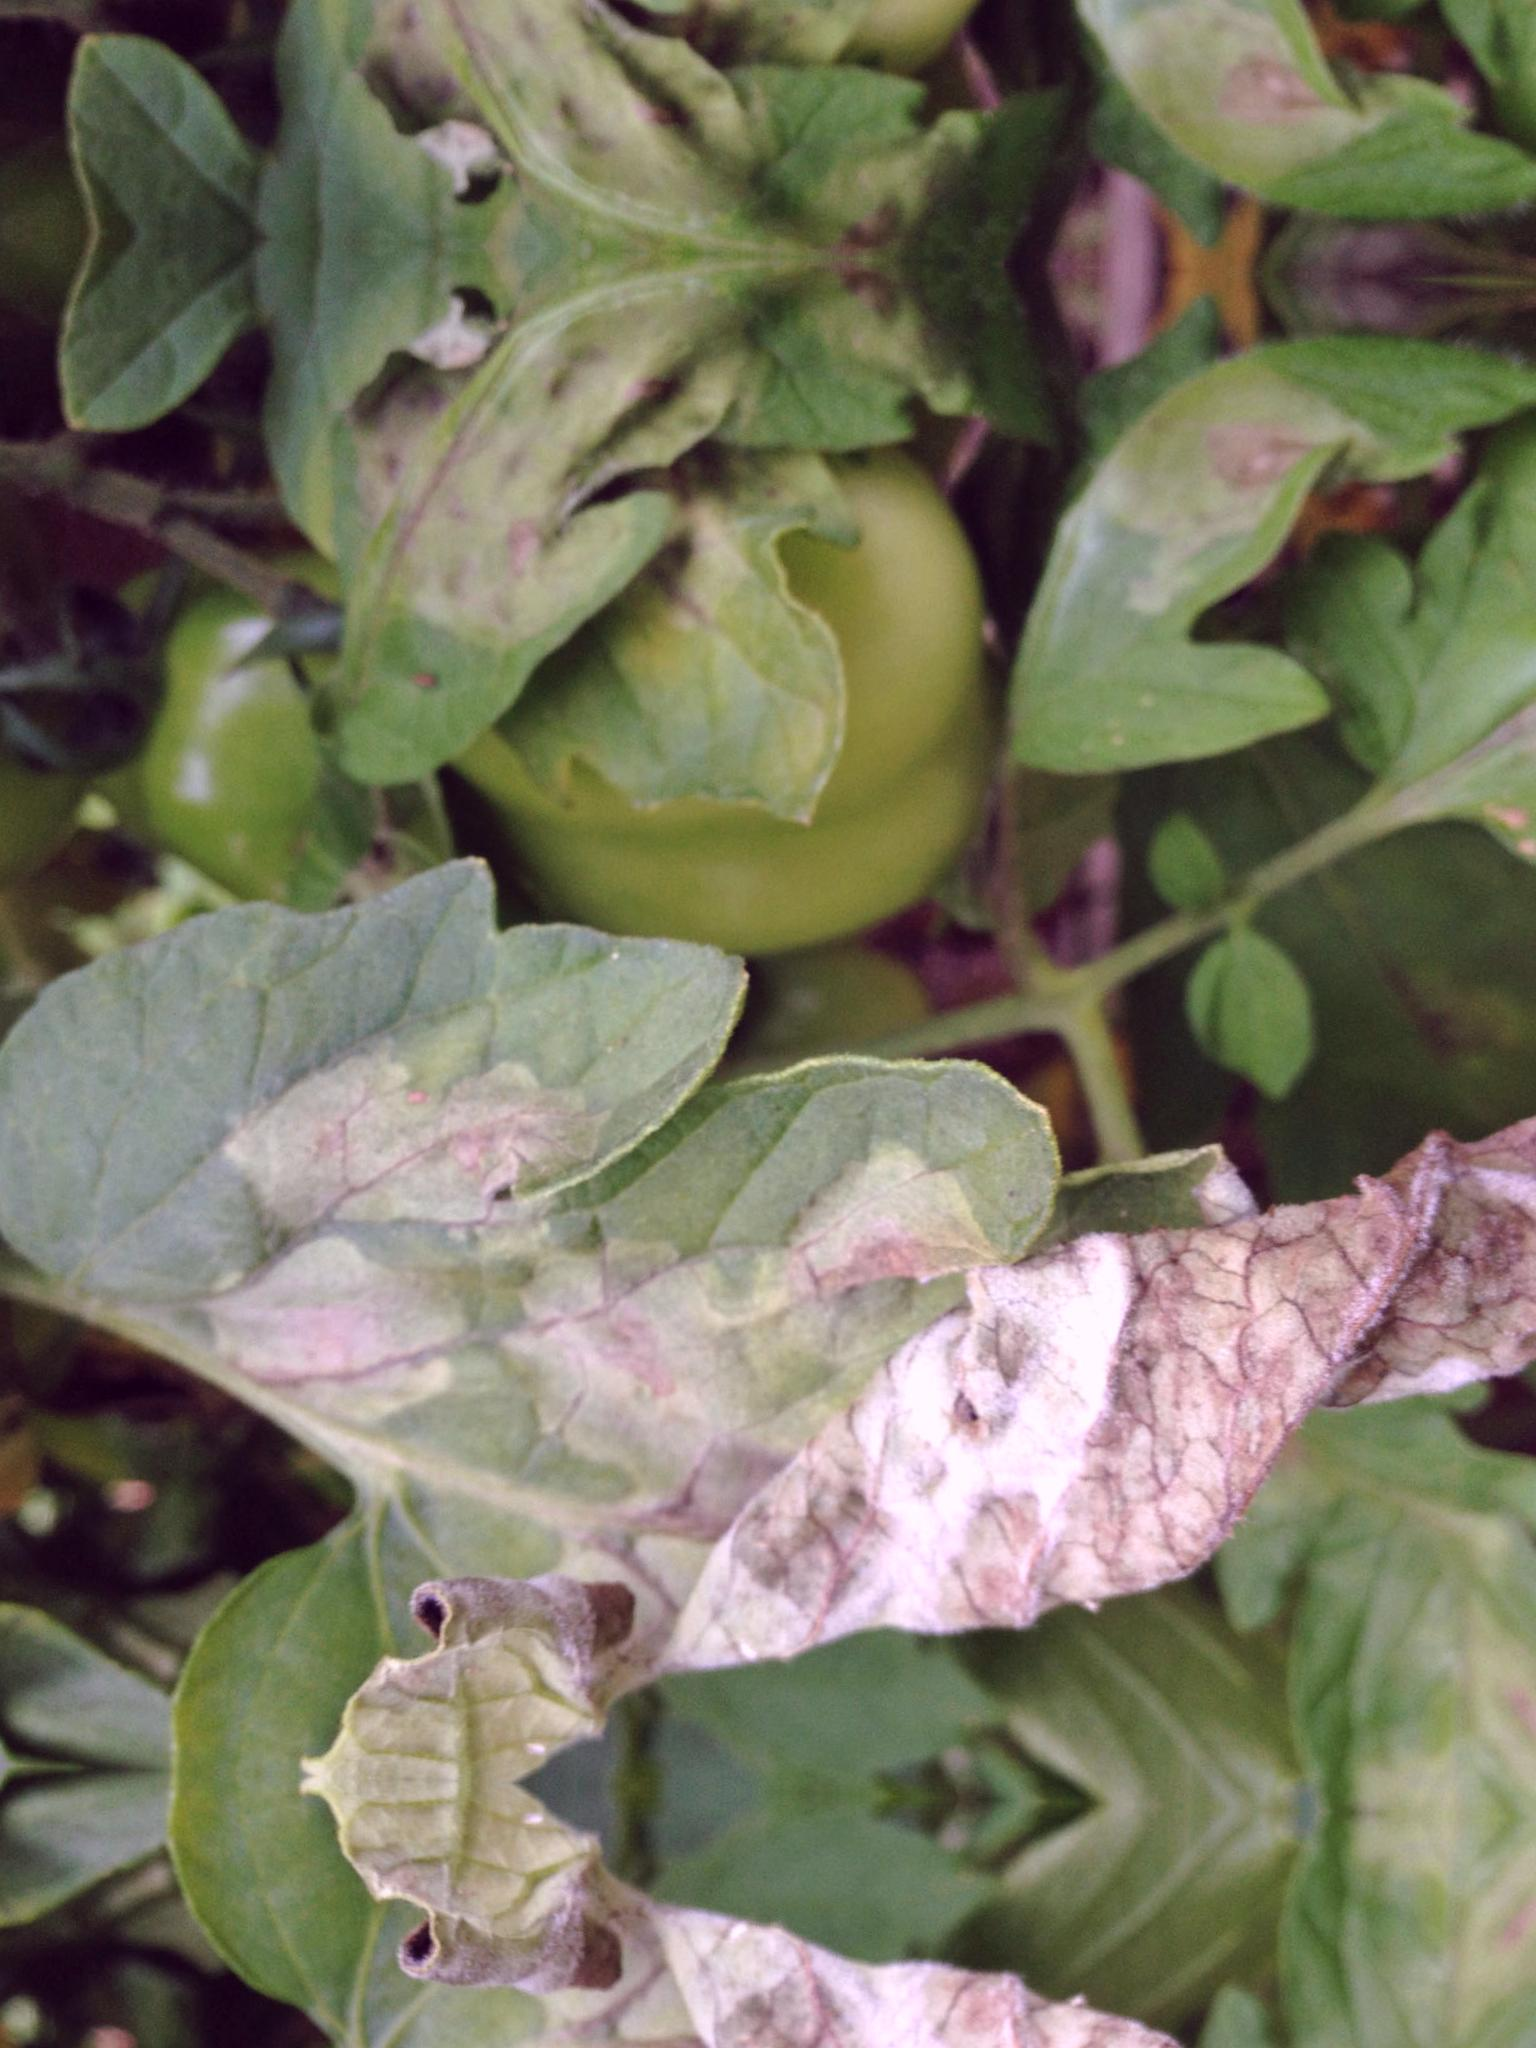Tomato leaf late blight: (187, 1008, 1092, 1538), (0, 848, 794, 1338), (933, 277, 1525, 919), (295, 240, 805, 797)
